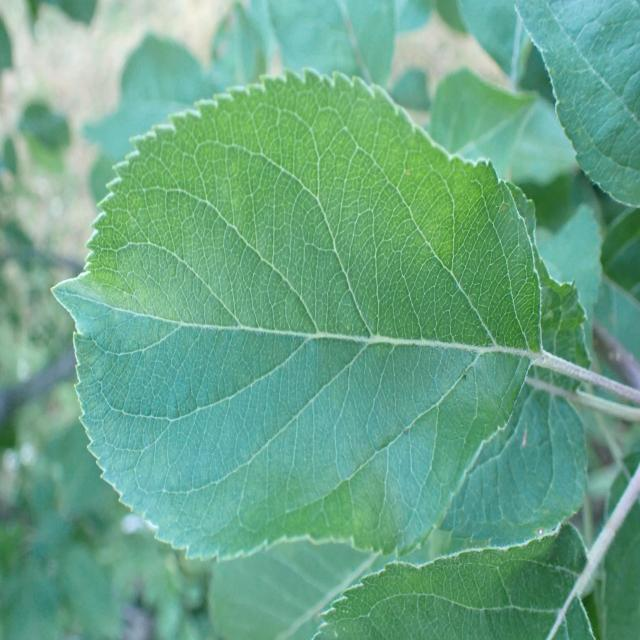healthy: (50, 67, 543, 564), (436, 178, 591, 549), (311, 521, 597, 640), (513, 0, 640, 209)
